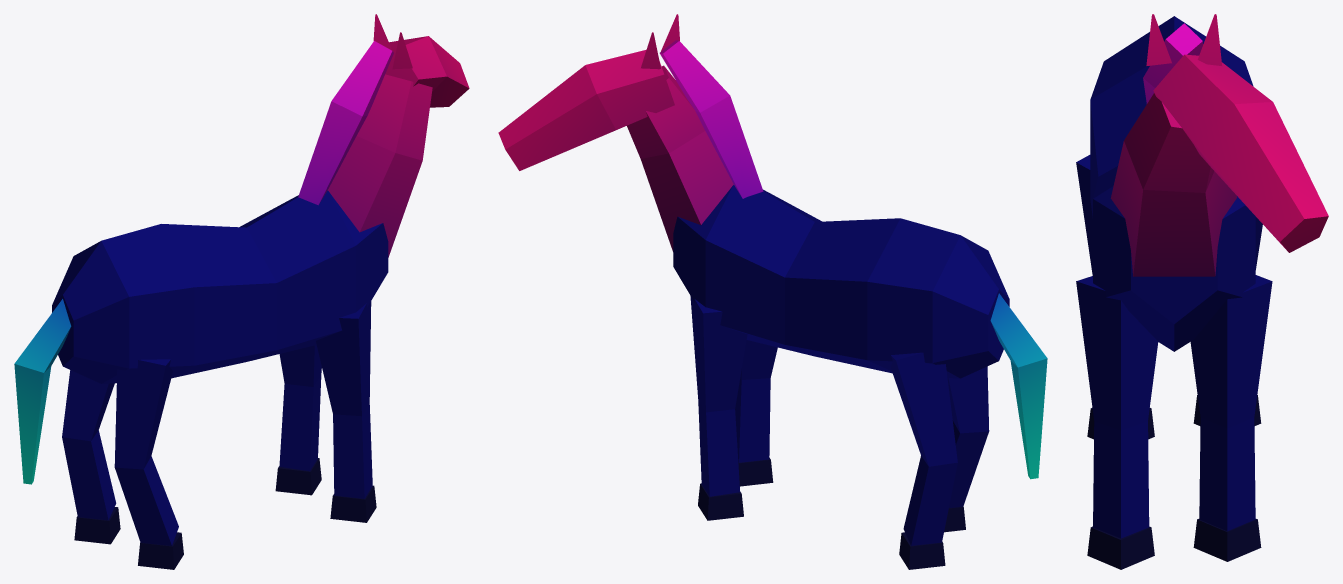
The model's file is ns-horse-c.glb.
The picture shows the model from 3 angles, left to right: view 1: azimuth 30°, elevation 25°; view 2: azimuth 150°, elevation 25°; view 3: azimuth 270°, elevation 25°; orthographic projection. The views are drawn at different scales.
Parts seen in each view (by area): view 1: Sculpted silhouette, Tapered form.008, Tapered form.006, Tapered form.002, Tapered form.004, Tapered form.012, Tapered form.013, Tapered form, Tapered form.009, Tapered form.007, Tapered form.001, Tapered form.005 (+1 smaller); view 2: Sculpted silhouette, Tapered form.009, Tapered form.008, Tapered form.004, Tapered form, Tapered form.012, Tapered form.013, Tapered form.002, Tapered form.006, Tapered form.001, Tapered form.005, Tapered form.003; view 3: Sculpted silhouette, Tapered form.009, Tapered form.008, Tapered form.002, Tapered form, Tapered form.003, Tapered form.001, Tapered form.012, Tapered form.006, Tapered form.010, Tapered form.011, Tapered form.007.
Boxes of the visible parts, x1=… form: Sculpted silhouette: x1=52, y1=190, x2=388, y2=383; Tapered form.008: x1=327, y1=74, x2=432, y2=257; Tapered form.006: x1=114, y1=359, x2=178, y2=545; Tapered form.002: x1=316, y1=301, x2=372, y2=498; Tapered form.004: x1=62, y1=370, x2=116, y2=520; Tapered form.012: x1=298, y1=41, x2=393, y2=205; Tapered form.013: x1=14, y1=299, x2=71, y2=484; Tapered form: x1=279, y1=345, x2=321, y2=471; Tapered form.009: x1=385, y1=36, x2=469, y2=107; Tapered form.007: x1=138, y1=532, x2=183, y2=569; Tapered form.001: x1=275, y1=458, x2=321, y2=495; Tapered form.005: x1=74, y1=507, x2=120, y2=544; Sculpted silhouette: x1=673, y1=185, x2=1009, y2=378; Tapered form.009: x1=498, y1=49, x2=674, y2=170; Tapered form.008: x1=627, y1=65, x2=733, y2=251; Tapered form.004: x1=890, y1=352, x2=957, y2=545; Tapered form: x1=690, y1=296, x2=747, y2=496; Tapered form.012: x1=659, y1=40, x2=763, y2=198; Tapered form.013: x1=990, y1=293, x2=1047, y2=479; Tapered form.002: x1=735, y1=340, x2=777, y2=462; Tapered form.006: x1=947, y1=366, x2=989, y2=507; Tapered form.001: x1=698, y1=483, x2=743, y2=520; Tapered form.005: x1=899, y1=532, x2=945, y2=569; Tapered form.003: x1=738, y1=457, x2=773, y2=486; Sculpted silhouette: x1=1090, y1=16, x2=1255, y2=351; Tapered form.009: x1=1153, y1=54, x2=1328, y2=252; Tapered form.008: x1=1110, y1=93, x2=1237, y2=276; Tapered form.002: x1=1076, y1=276, x2=1158, y2=538; Tapered form: x1=1190, y1=275, x2=1272, y2=531; Tapered form.003: x1=1087, y1=526, x2=1154, y2=569; Tapered form.001: x1=1193, y1=519, x2=1261, y2=561; Tapered form.012: x1=1143, y1=23, x2=1203, y2=103; Tapered form.006: x1=1076, y1=155, x2=1092, y2=275; Tapered form.010: x1=1146, y1=14, x2=1171, y2=65; Tapered form.011: x1=1197, y1=14, x2=1222, y2=65; Tapered form.007: x1=1087, y1=407, x2=1154, y2=439.
Size of the model in its own units: 0.8596 by 0.755 by 0.299.
